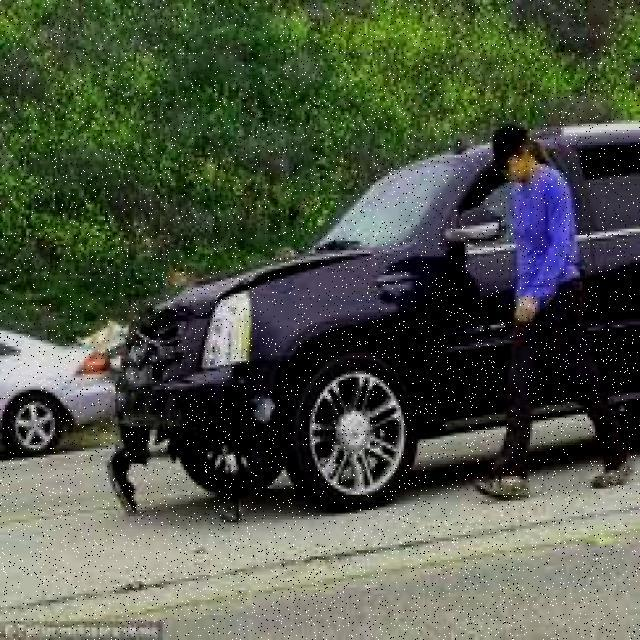car damage: (110, 247, 384, 515)
